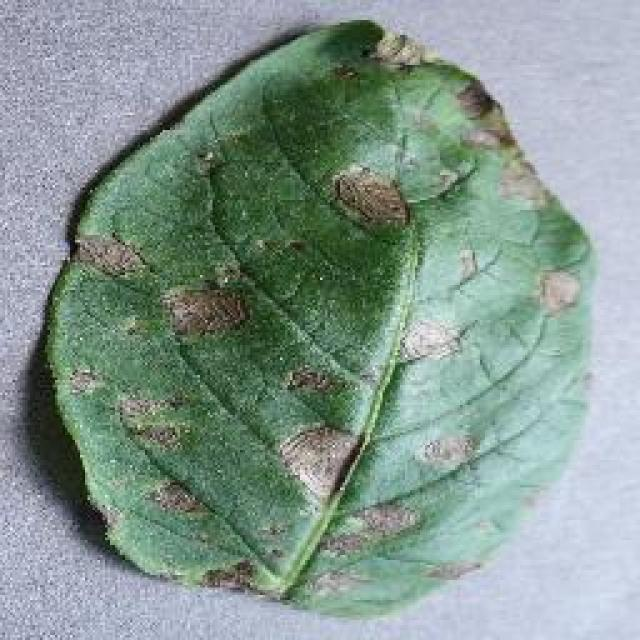early_blight: (38, 15, 600, 623)
